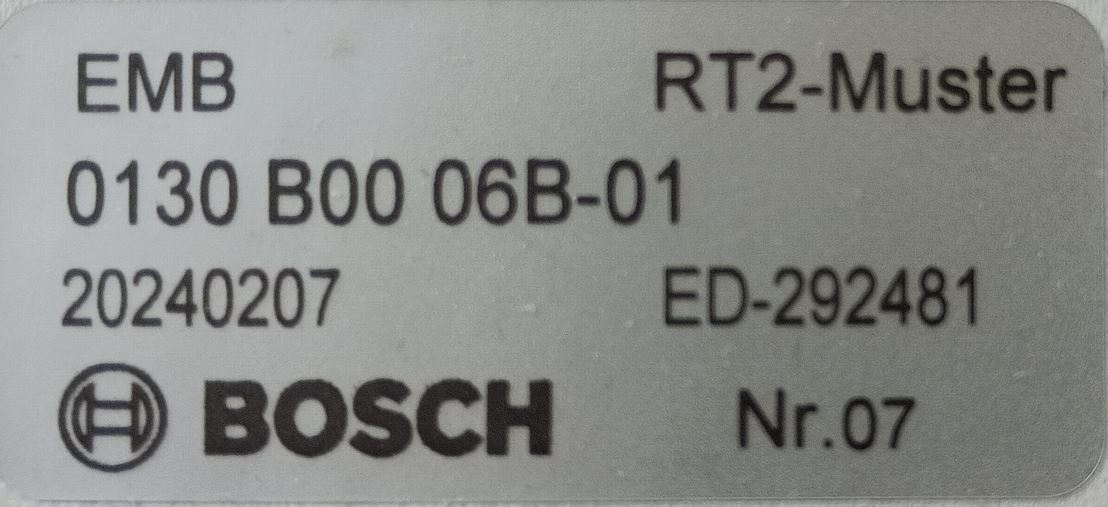p1: (55, 148, 700, 244)
p2: (50, 254, 356, 336)
p3: (652, 252, 993, 340)
